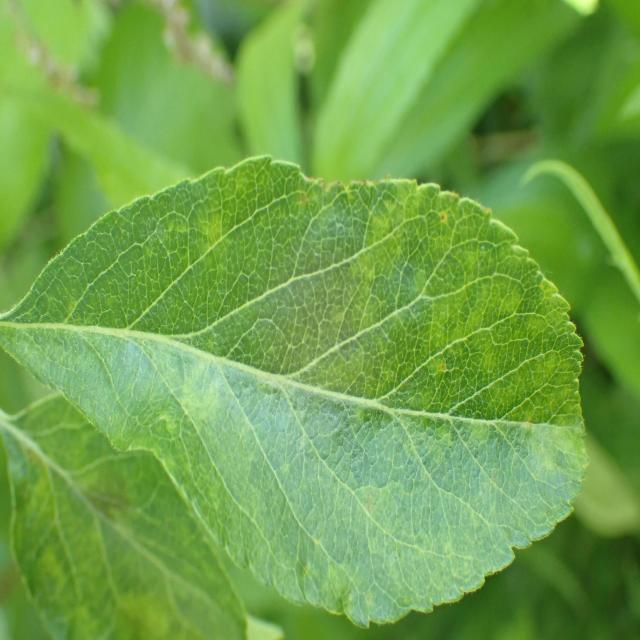scab: (86, 178, 569, 596)
